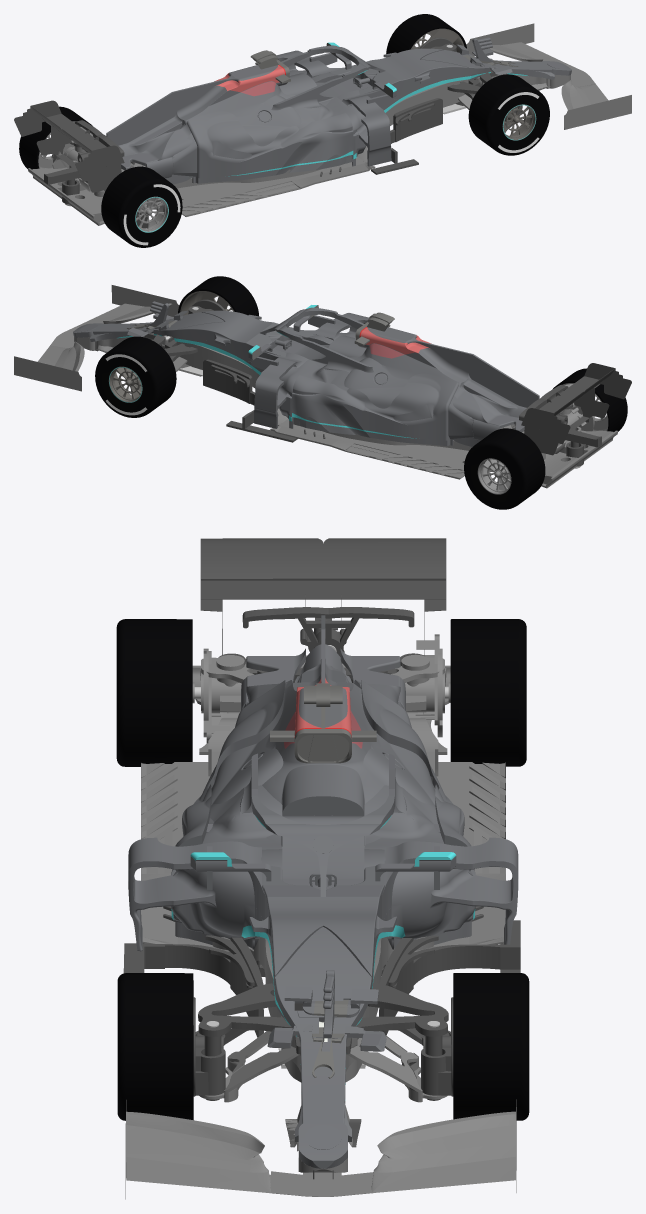
The model's file is f1-sports-car.glb.
The picture shows the model from 3 angles, top to bottom: view 1: azimuth 30°, elevation 25°; view 2: azimuth 150°, elevation 25°; view 3: azimuth 270°, elevation 25°; orthographic projection. The views are drawn at different scales.
Parts seen in each view (by area): view 1: racecar; view 2: racecar; view 3: racecar.
Boxes of the visible parts, box(x1,y1,x2,y2) form: racecar: box(14, 14, 631, 247); racecar: box(14, 276, 631, 509); racecar: box(116, 538, 529, 1199).
Size of the model in its own units: 30.46 by 6.25 by 10.04.
1 material, 1 textured.
